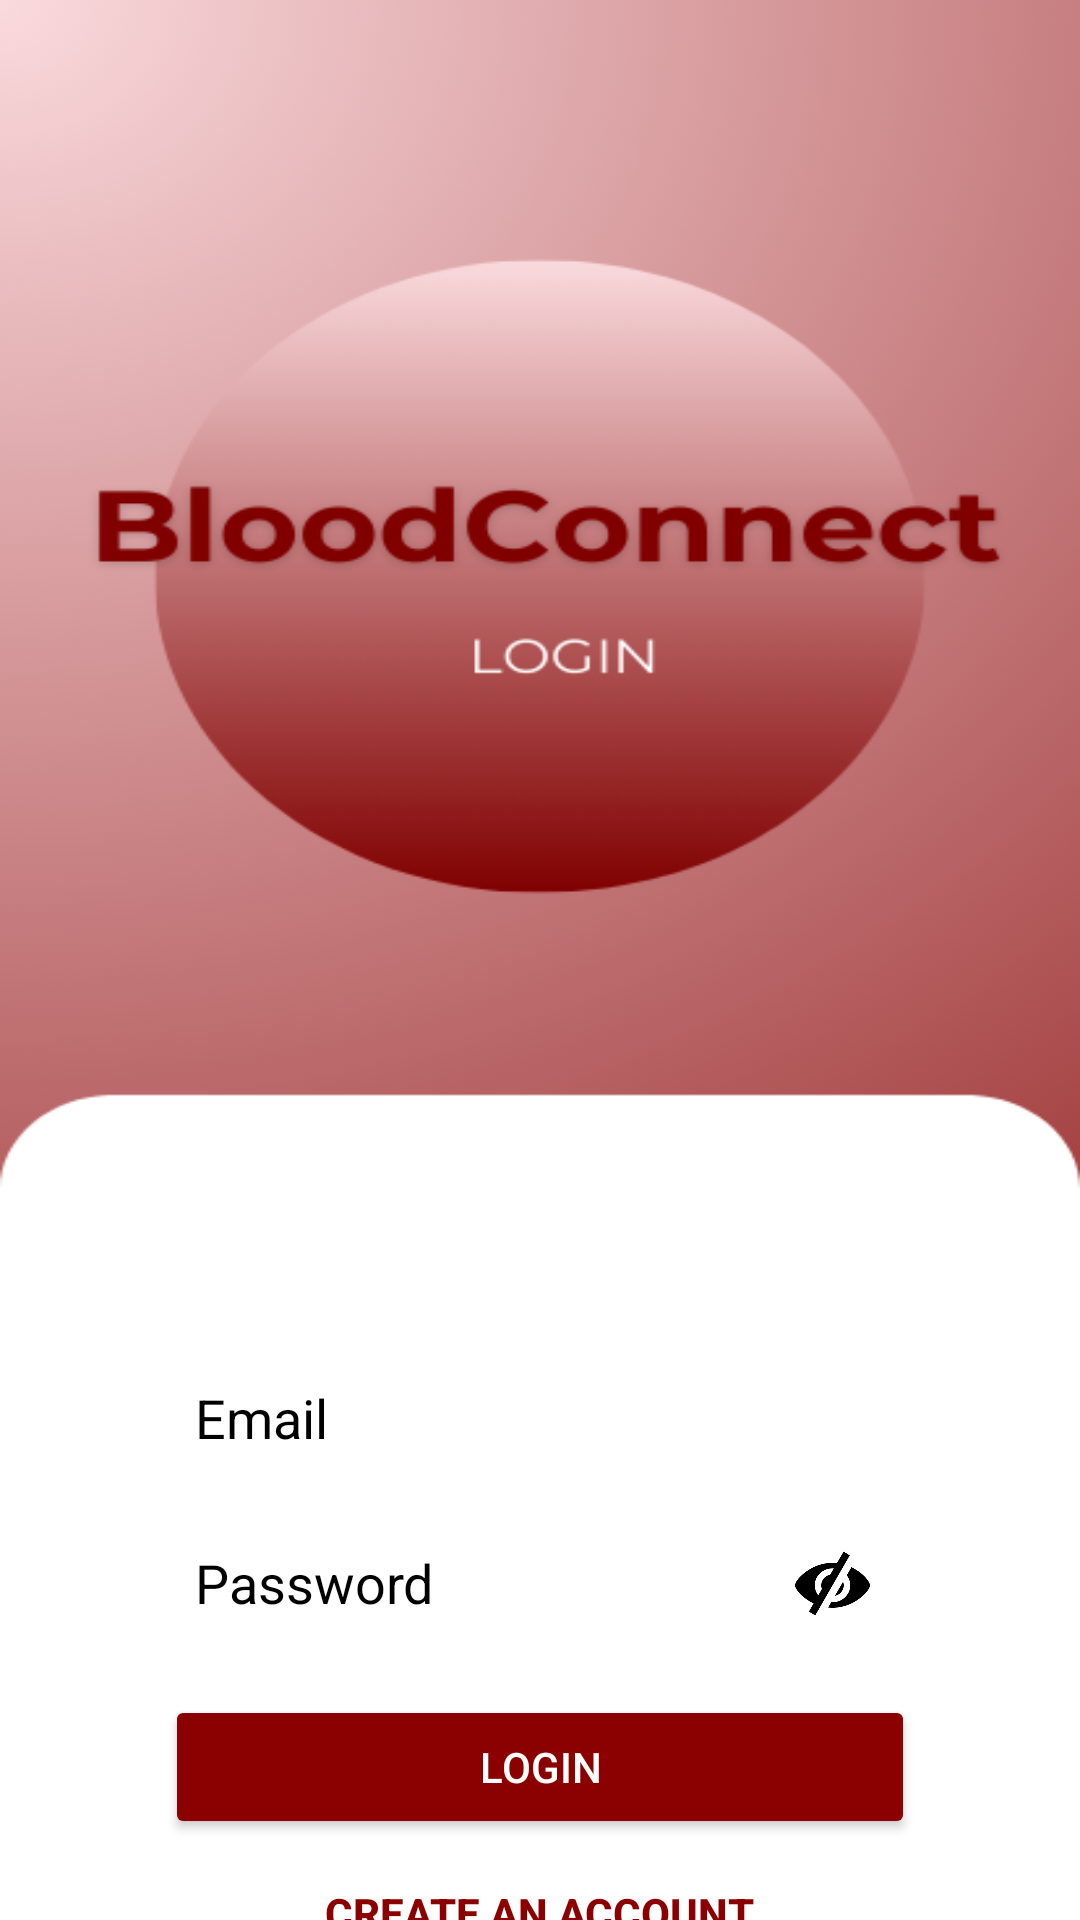

Named icons in this screenshot (1080w x 1920h) and their centers, point (x, y):
eye closed: point (832, 1583)
